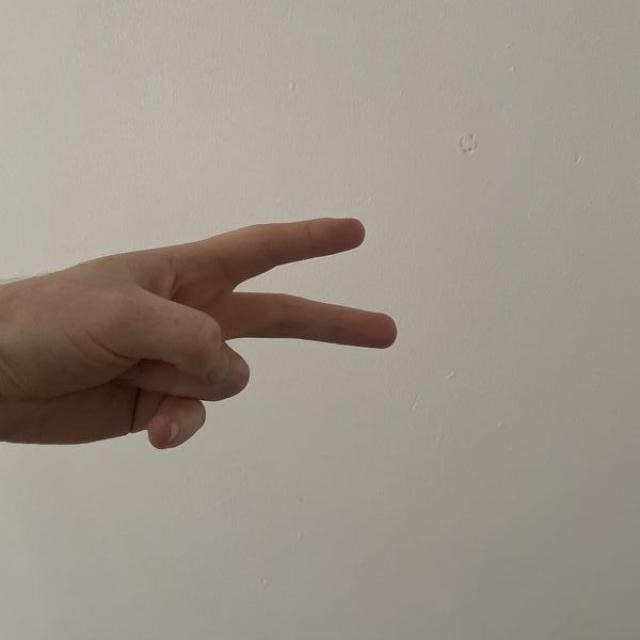scissors: (24, 210, 402, 453)
